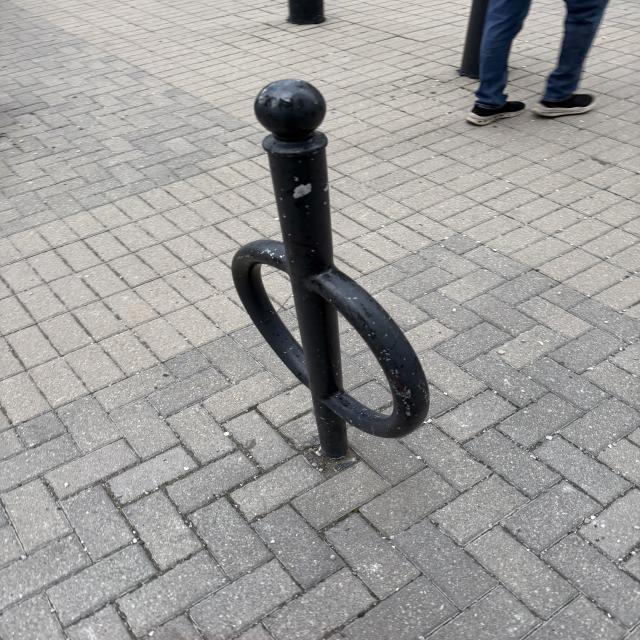Bicycle Rack: (233, 79, 427, 454)
